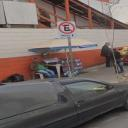NoEstacionar: (56, 22, 76, 36)
